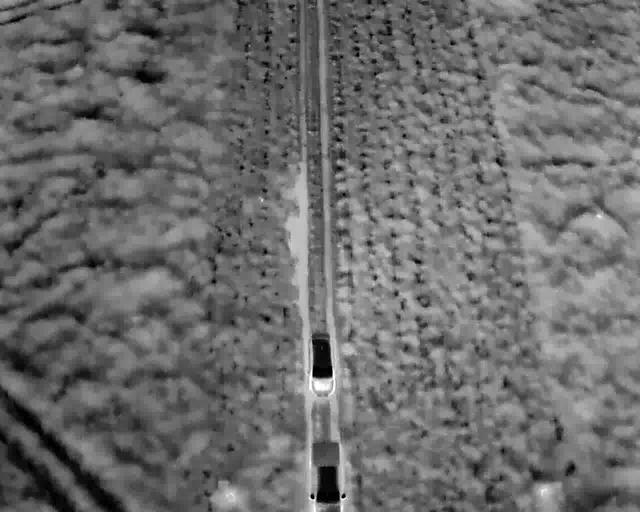car: (307, 441, 347, 511), (308, 331, 334, 400)
